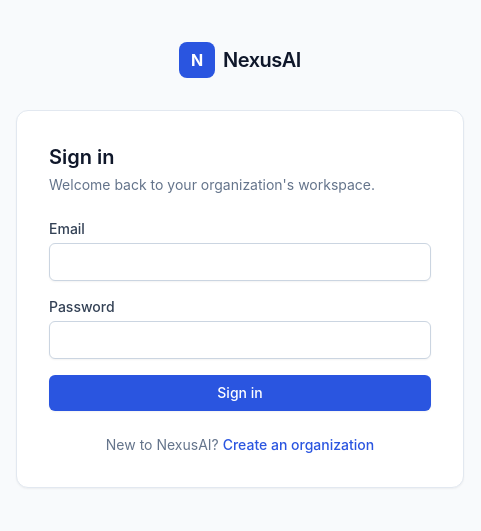
Authentication › shows the server's error message on a failed login
The image size is (481, 531).
In the field labelled "Email": (240, 262) x1=49 y1=243 x2=431 y2=281, type "asha@acme.com"
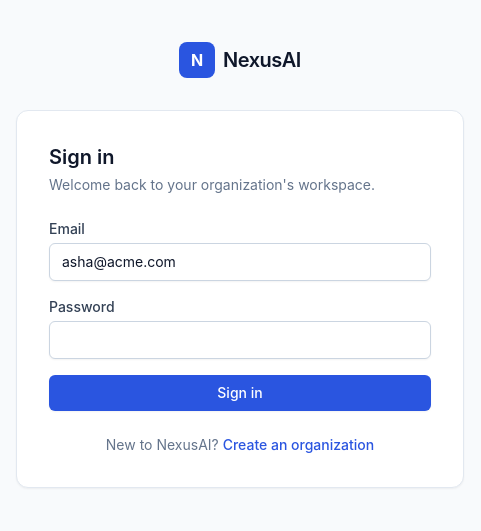
In the password field labelled "Password": (240, 340) x1=49 y1=321 x2=431 y2=359, type "wrong"
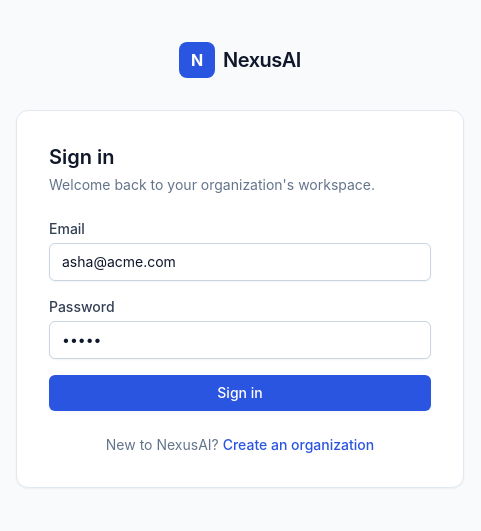
Click the button "Sign in": (240, 393) x1=49 y1=375 x2=431 y2=411
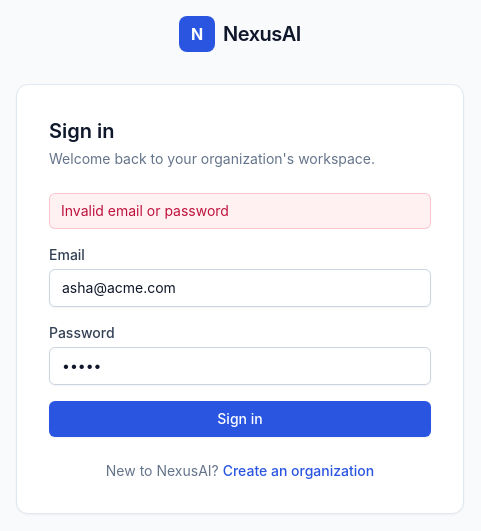
Now the message reads "Invalid email or password", box x1=61 y1=202 x2=229 y2=219
